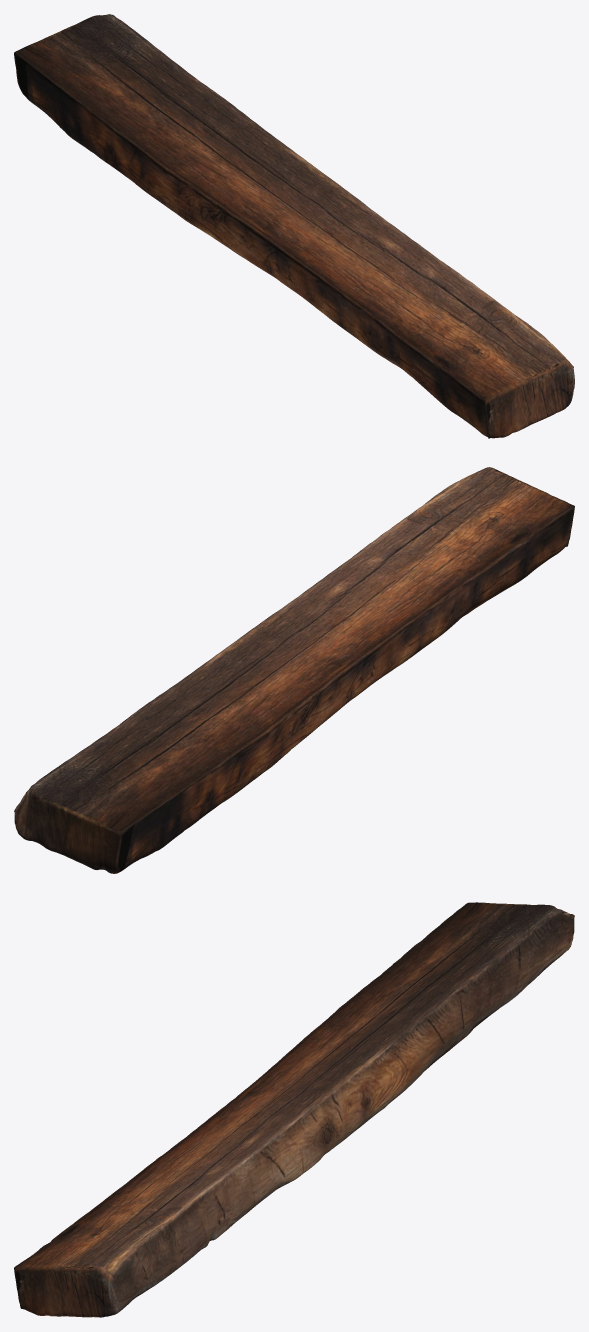
File: WoodPlank1.fbx
The picture shows the model from 3 angles, top to bottom: view 1: azimuth 30°, elevation 25°; view 2: azimuth 150°, elevation 25°; view 3: azimuth 330°, elevation 25°; orthographic projection. The views are drawn at different scales.
Parts seen in each view (by area): view 1: woodenp4; view 2: woodenp4; view 3: woodenp4.
Boxes of the visible parts, box(x1,y1,x2,y2) form: woodenp4: box(14, 14, 574, 438); woodenp4: box(14, 467, 574, 873); woodenp4: box(14, 902, 574, 1317).
Bounding box in the file's own units: 40.29 × 28.79 × 293.
1 material, 1 textured.
